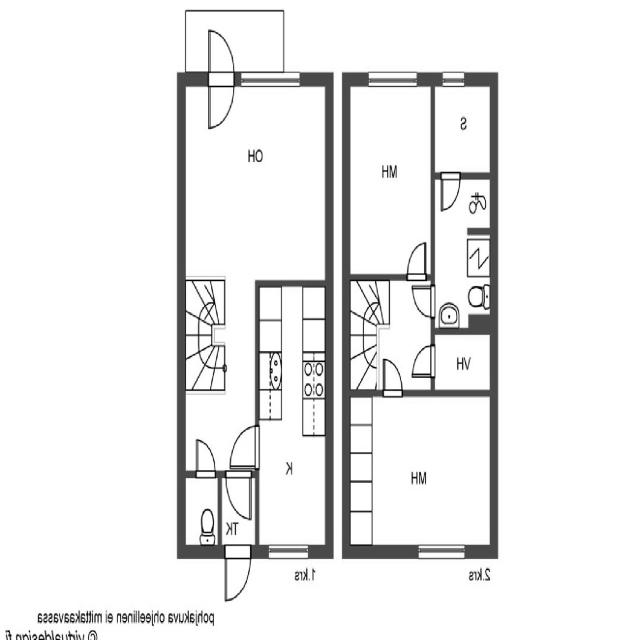door: (202, 25, 234, 137), (214, 464, 256, 524), (224, 426, 264, 474), (222, 543, 252, 606), (435, 156, 459, 216), (378, 357, 406, 403), (194, 433, 219, 483), (410, 339, 437, 382), (403, 234, 427, 282), (411, 279, 435, 321)
window: (357, 64, 427, 93), (408, 534, 473, 564), (235, 65, 310, 90), (263, 540, 316, 566), (440, 65, 479, 99)
zone: (180, 77, 326, 279), (348, 395, 496, 549), (252, 277, 331, 556), (349, 76, 432, 280), (434, 172, 498, 334), (433, 79, 493, 178), (430, 325, 495, 392), (180, 471, 220, 553)
